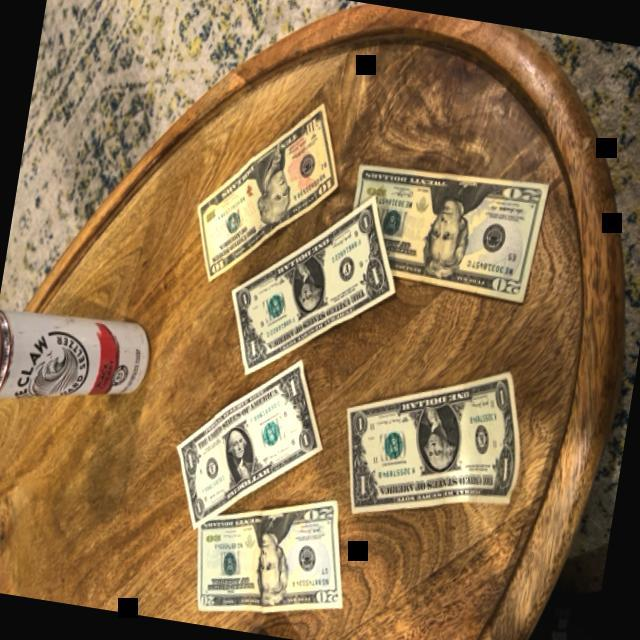one: (332, 348, 535, 538), (164, 343, 336, 547)
ten: (185, 87, 351, 300)
twenty: (341, 154, 550, 306), (185, 479, 360, 634)
